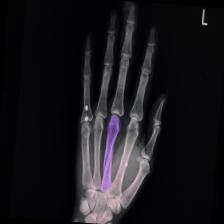spiral-fracture: (68, 0, 171, 224)
